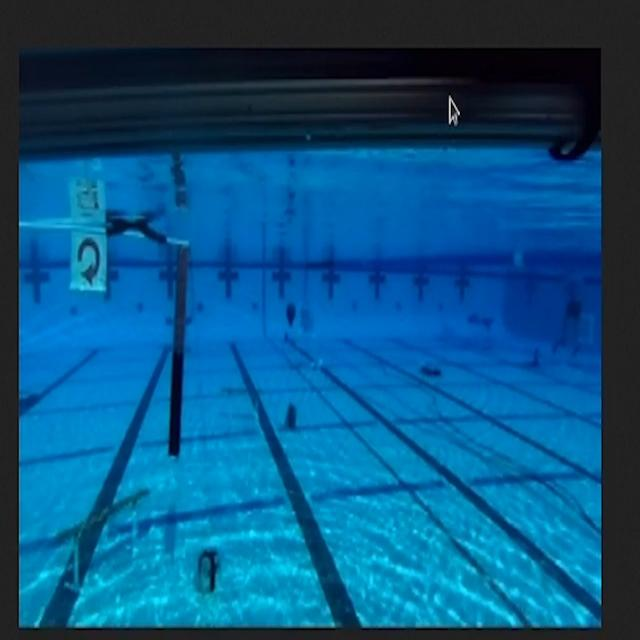Gate: (19, 210, 197, 465)
